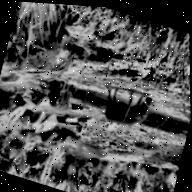boar: (88, 75, 158, 139), (36, 69, 83, 136)
